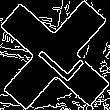L_NW: (26, 26, 84, 84)
